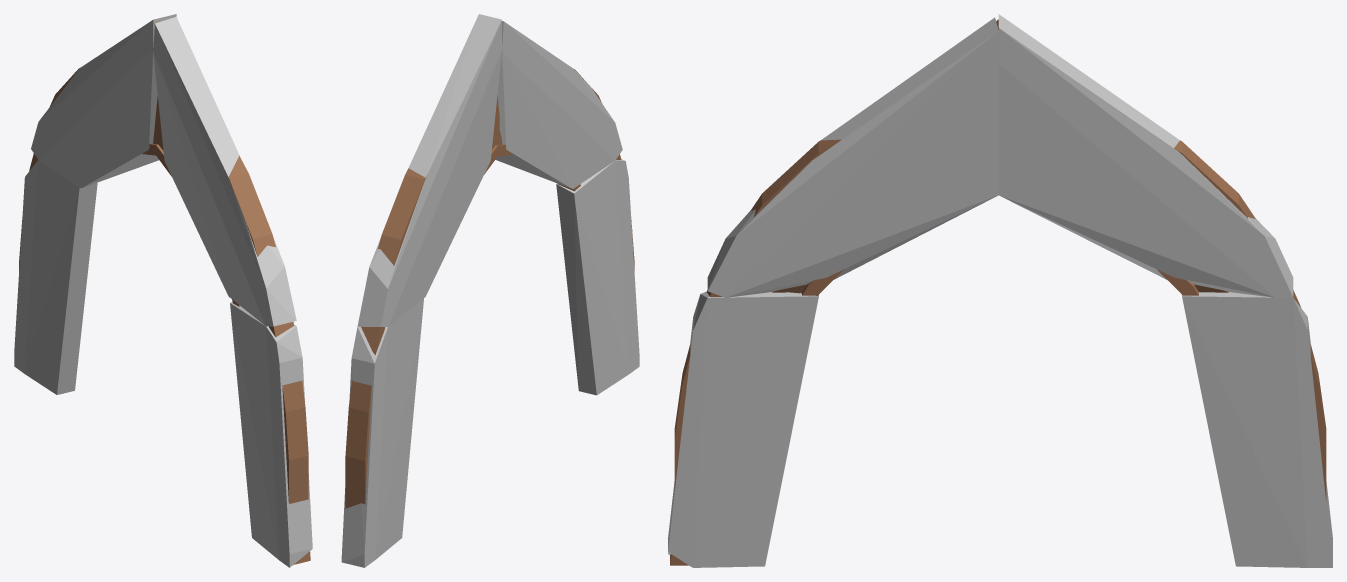
File: SM_Prop_Bed_Arch_01.fbx
3 views of the same model, side by side, from view 1: azimuth 30°, elevation 25°; view 2: azimuth 150°, elevation 25°; view 3: azimuth 270°, elevation 25° (orthographic). The views are drawn at different scales.
Visible parts, largest first — view 1: SM_Prop_Bed_Arch_01_ConvexHulls, SM_Prop_Bed_Arch_01; view 2: SM_Prop_Bed_Arch_01_ConvexHulls, SM_Prop_Bed_Arch_01; view 3: SM_Prop_Bed_Arch_01_ConvexHulls, SM_Prop_Bed_Arch_01.
Part boxes in pixels (box(x1,y1,x2,y2)): SM_Prop_Bed_Arch_01_ConvexHulls: box(14, 14, 312, 567); SM_Prop_Bed_Arch_01: box(19, 20, 310, 564); SM_Prop_Bed_Arch_01_ConvexHulls: box(341, 14, 639, 567); SM_Prop_Bed_Arch_01: box(345, 69, 634, 508); SM_Prop_Bed_Arch_01_ConvexHulls: box(668, 14, 1332, 567); SM_Prop_Bed_Arch_01: box(670, 19, 1326, 565).
Bounding box in the file's own units: 13.81 × 276 × 247.
2 materials, 1 textured.
